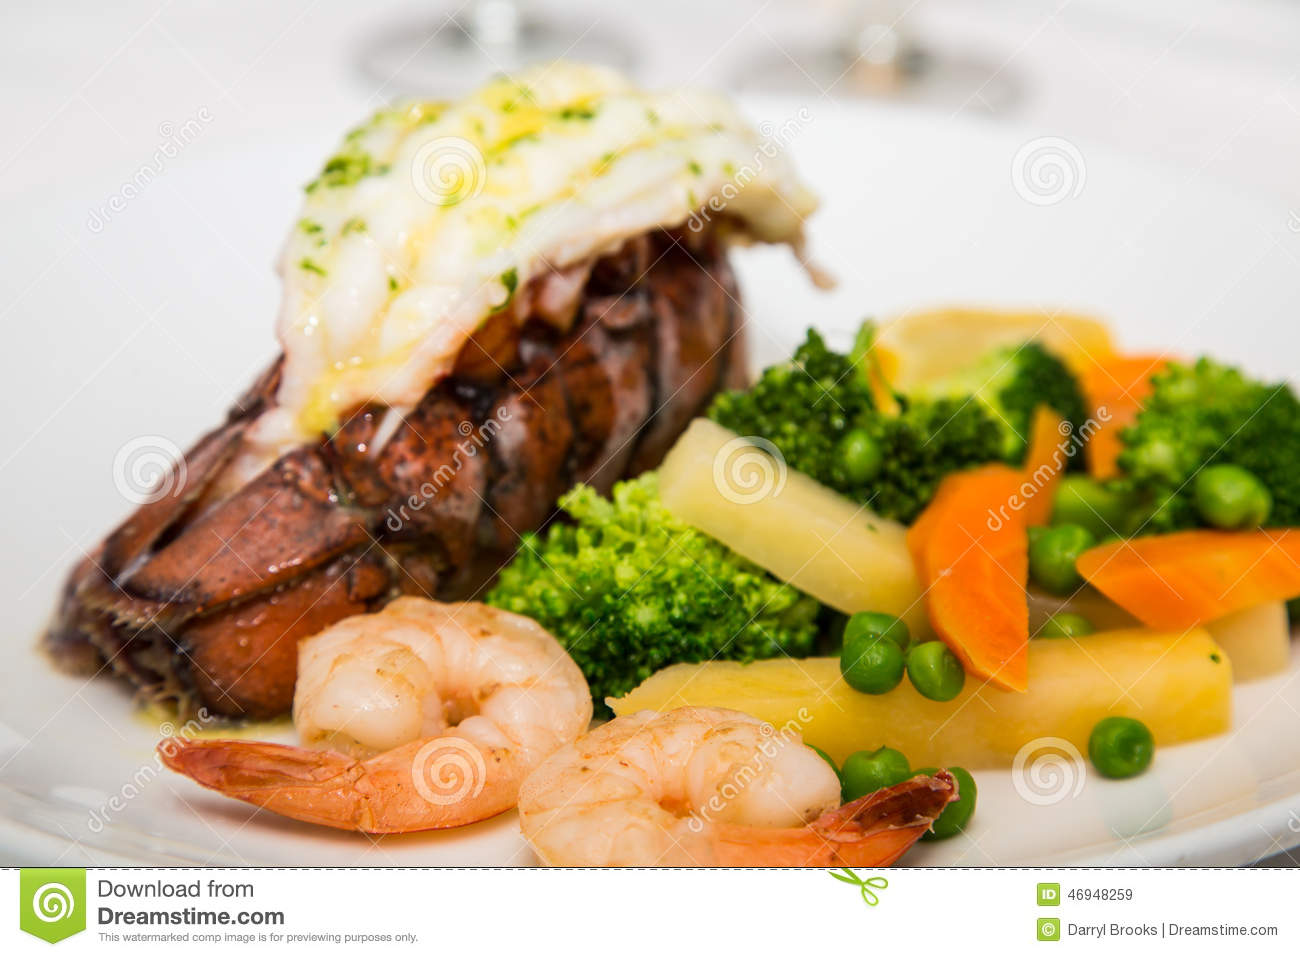boiled peas: (839, 611, 956, 702), (839, 748, 973, 824), (1197, 465, 1278, 532), (1085, 716, 1158, 781), (1024, 515, 1087, 591)
